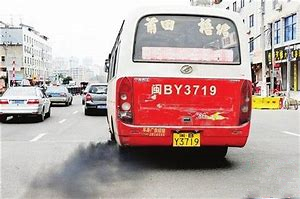smoke: (44, 138, 112, 199)
